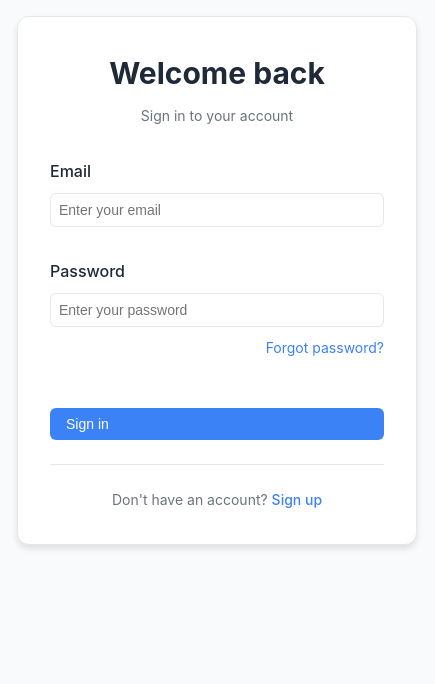
Login Page › should handle login error
Type "test@example.com" into the field labelled "Email" at {"x": 217, "y": 210}, box 50,193 -> 384,227
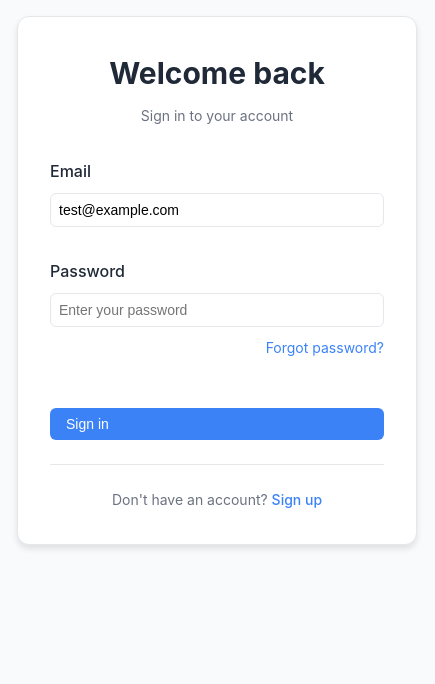
Type "wrongpassword" into the password field labelled "Password" at {"x": 217, "y": 310}, box 50,293 -> 384,327
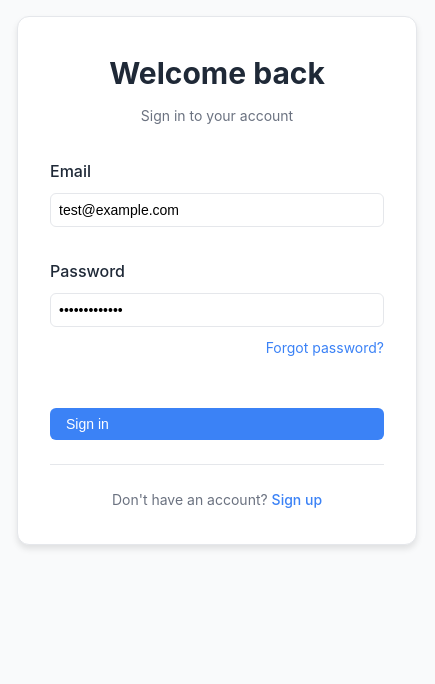
Click the button "Sign in" at {"x": 87, "y": 424}, box 50,408 -> 384,440
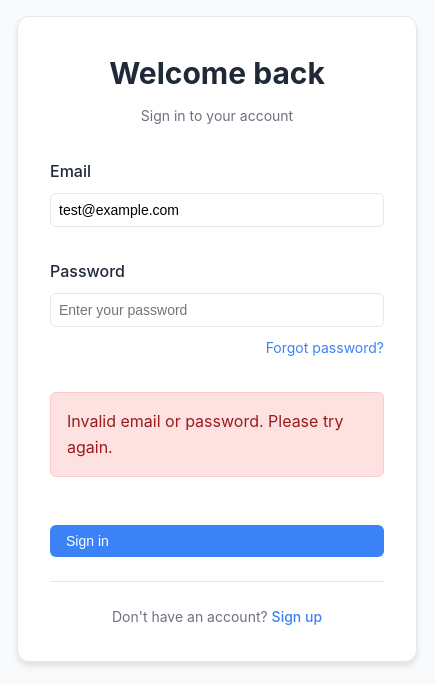
Now the text "Invalid email or password. Please try again." is shown, box 50,392 -> 384,477
